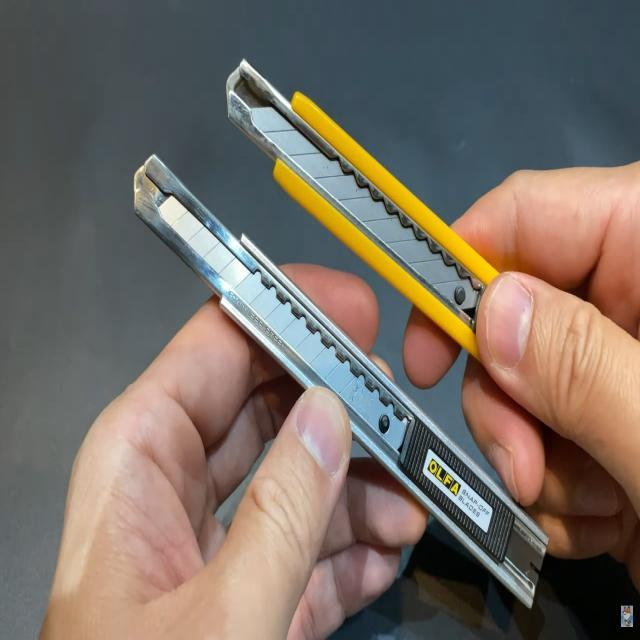cutter: (86, 2, 640, 617)
